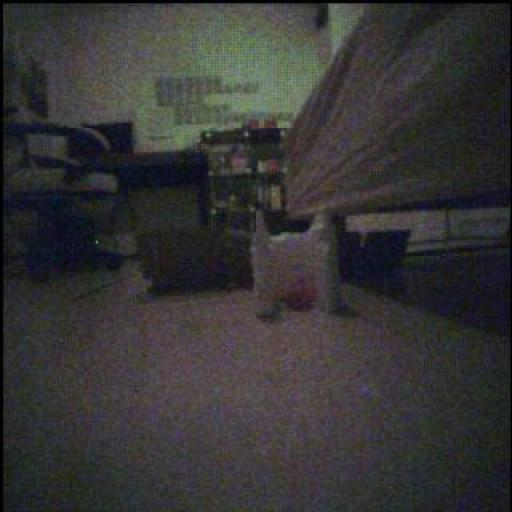basket: (280, 274, 316, 314)
